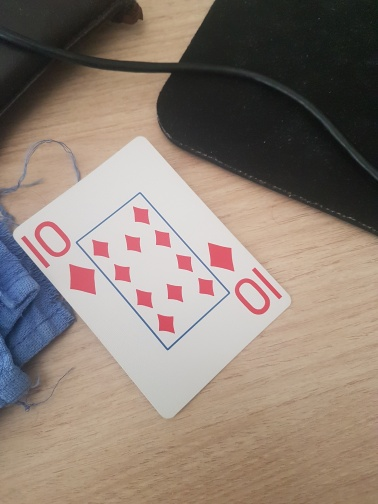ten: (13, 136, 292, 420)
